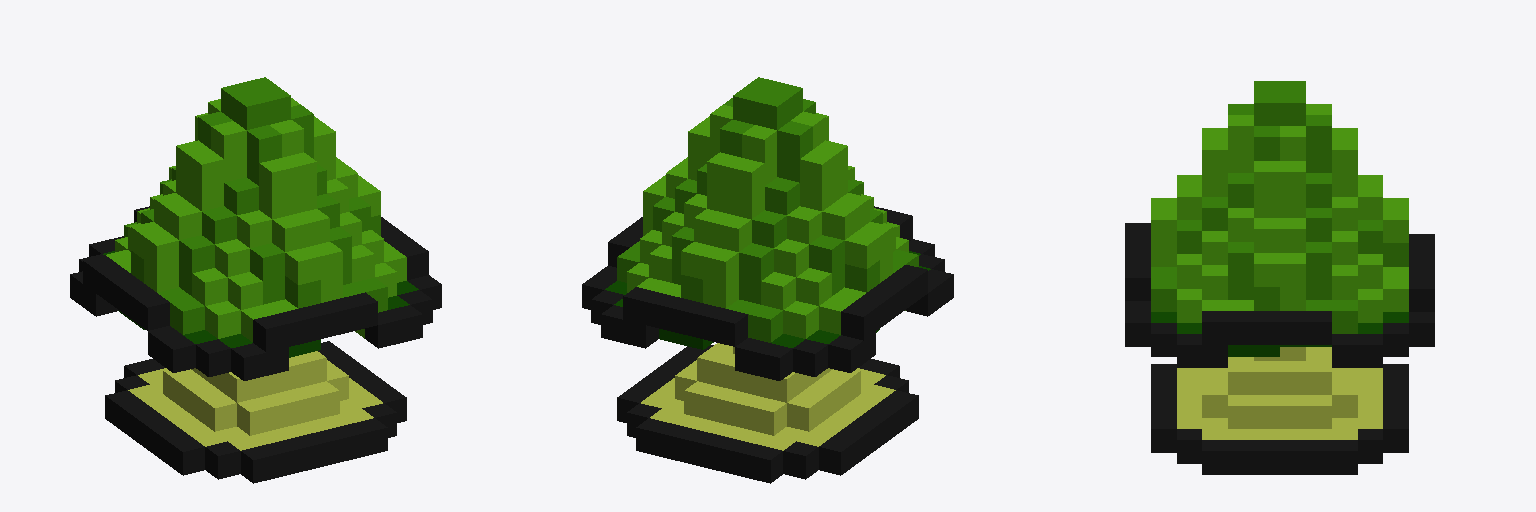
3 views of the same model, side by side, from view 1: azimuth 30°, elevation 25°; view 2: azimuth 150°, elevation 25°; view 3: azimuth 270°, elevation 25° (orthographic).
Parts seen in each view (by area): view 1: Model; view 2: Model; view 3: Model.
Boxes of the visible parts, x1,y1,x2,y2 form: Model: [70, 77, 441, 483]; Model: [582, 77, 953, 483]; Model: [1125, 81, 1434, 474].
Size of the model in its own units: 27.43 by 32 by 27.43.
1 materials, 1 textured.